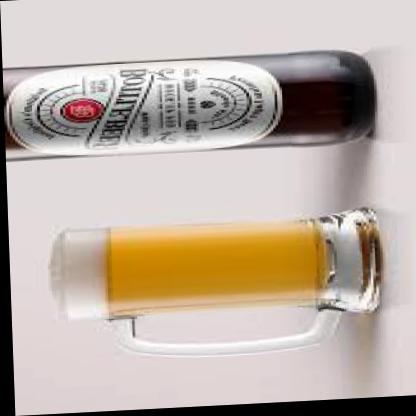trash: (5, 51, 374, 154), (50, 208, 381, 318)
